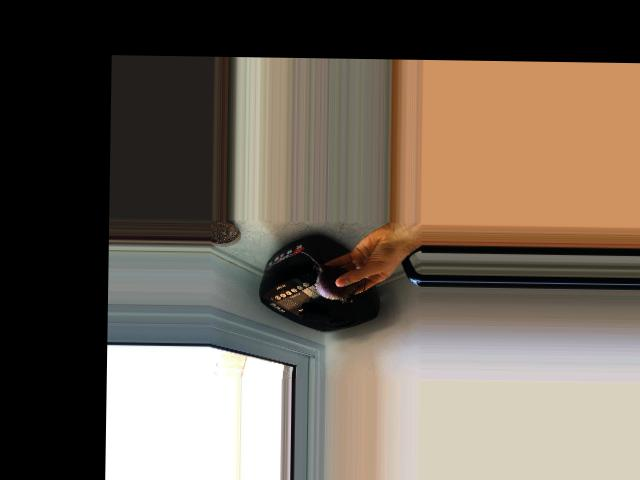beet: (300, 250, 365, 303)
